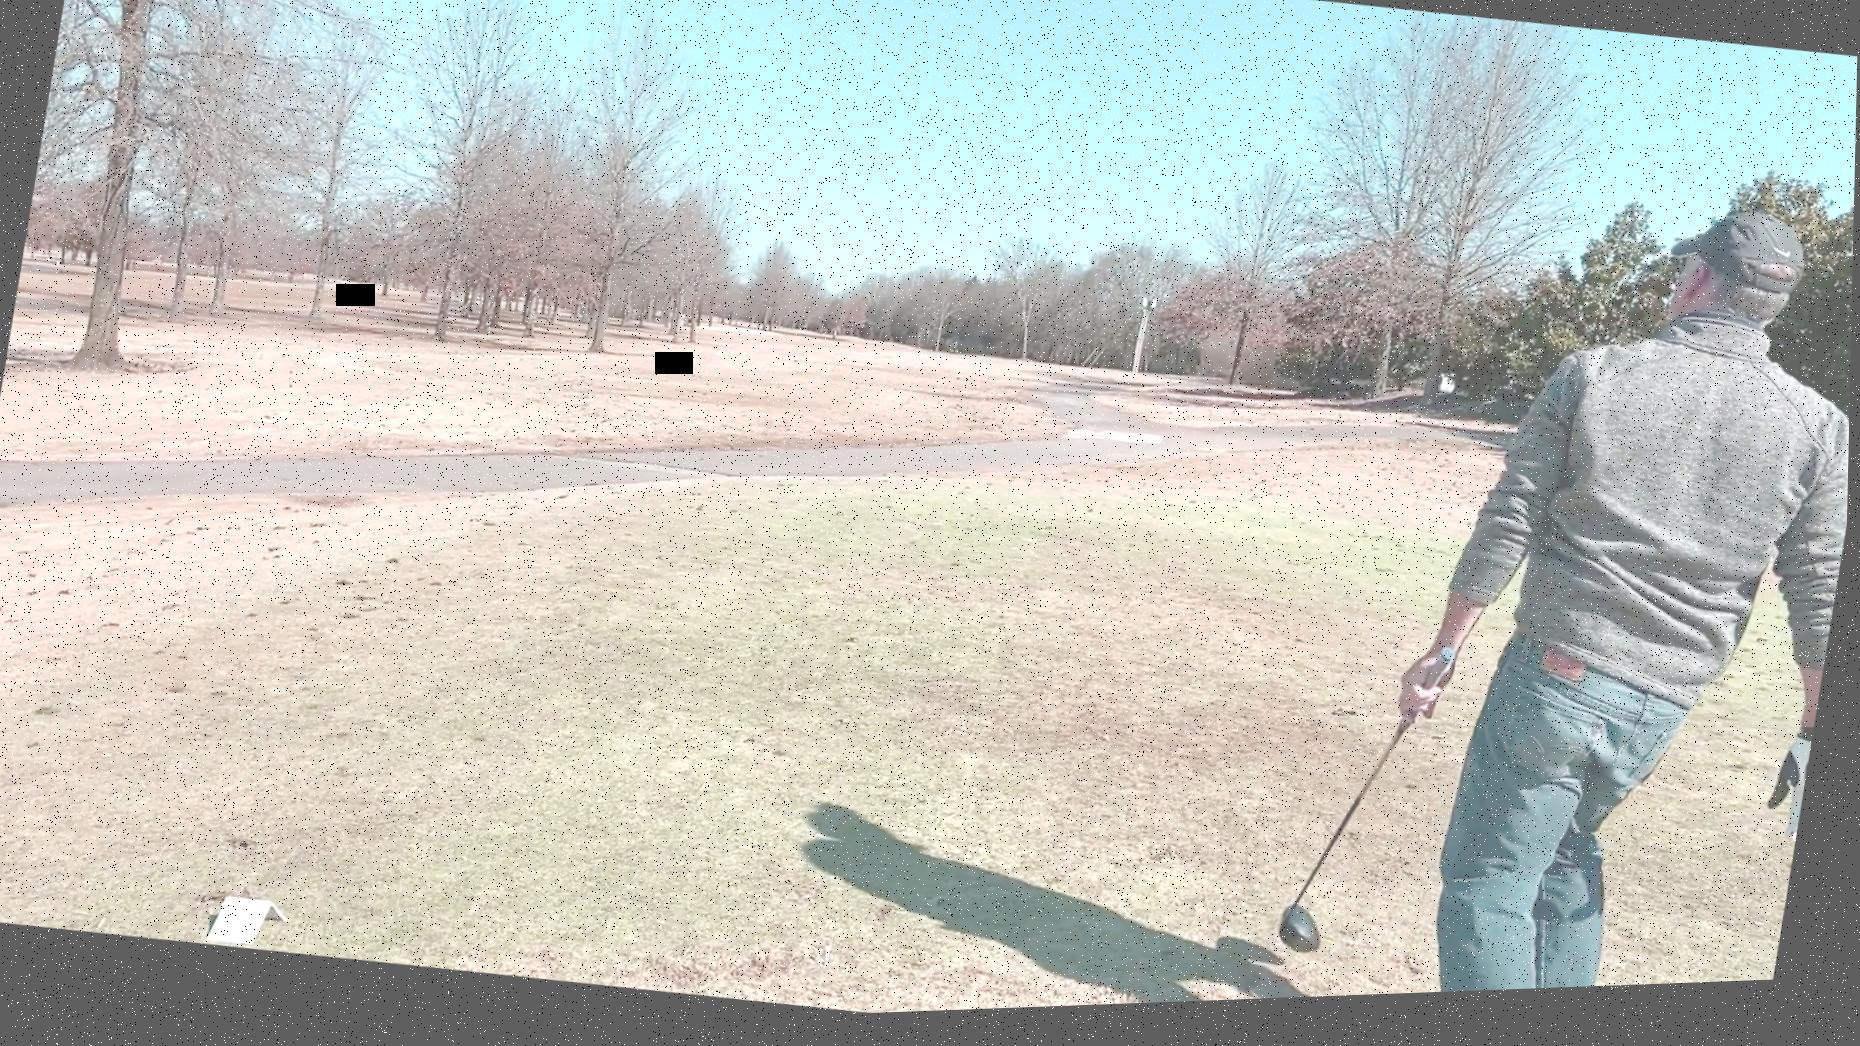ClubHead: (1277, 894, 1335, 969)
